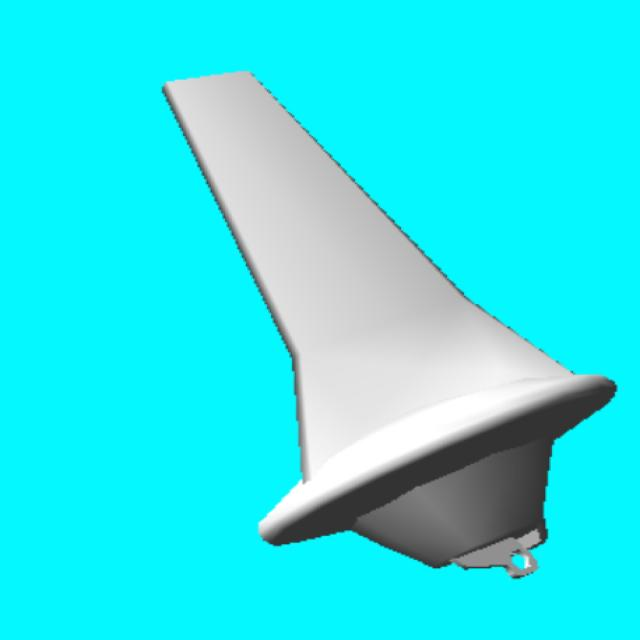WhiteBuoy: (164, 72, 614, 577)
